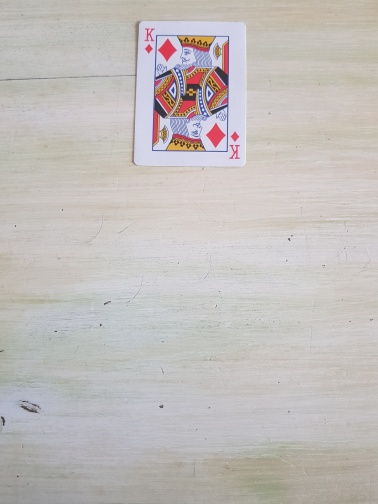king: (130, 20, 248, 168)
